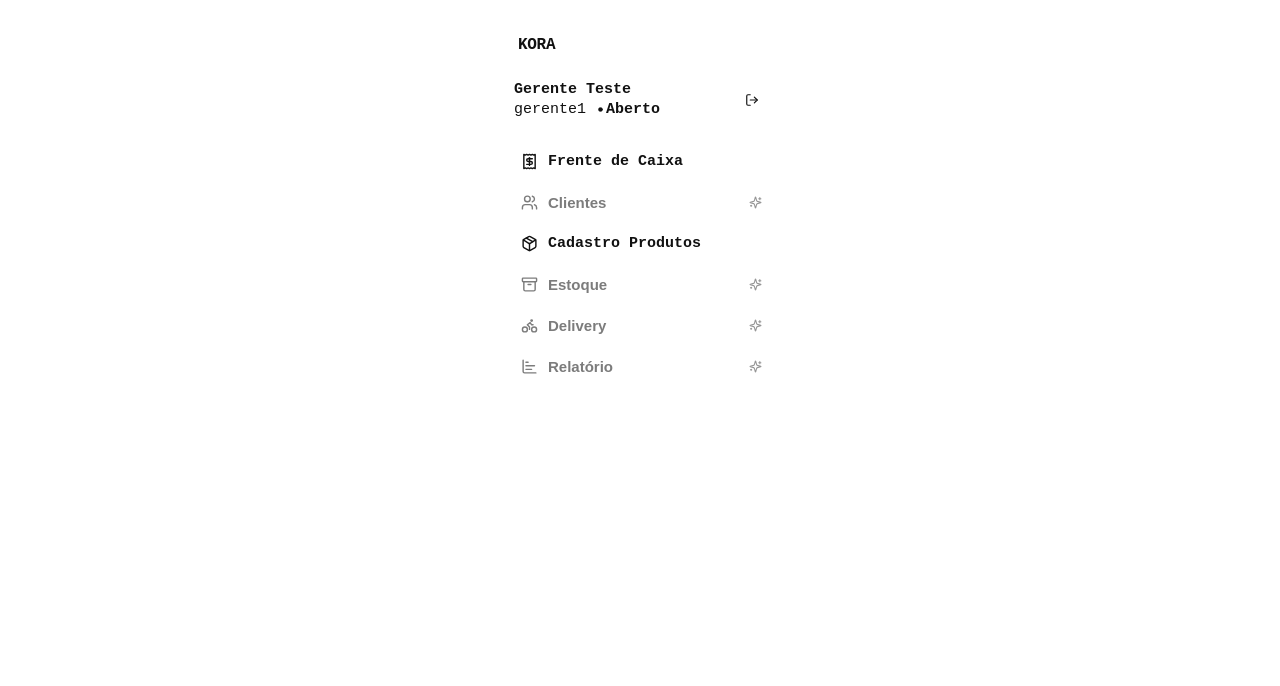
Sidebar, gating por plano (F013/ADR-005, Fase 2) › mostra o módulo fora do plano como bloqueado (convite a upgrade), não escondido
Click the button "Estoque": (578, 285) [498,264,782,305]
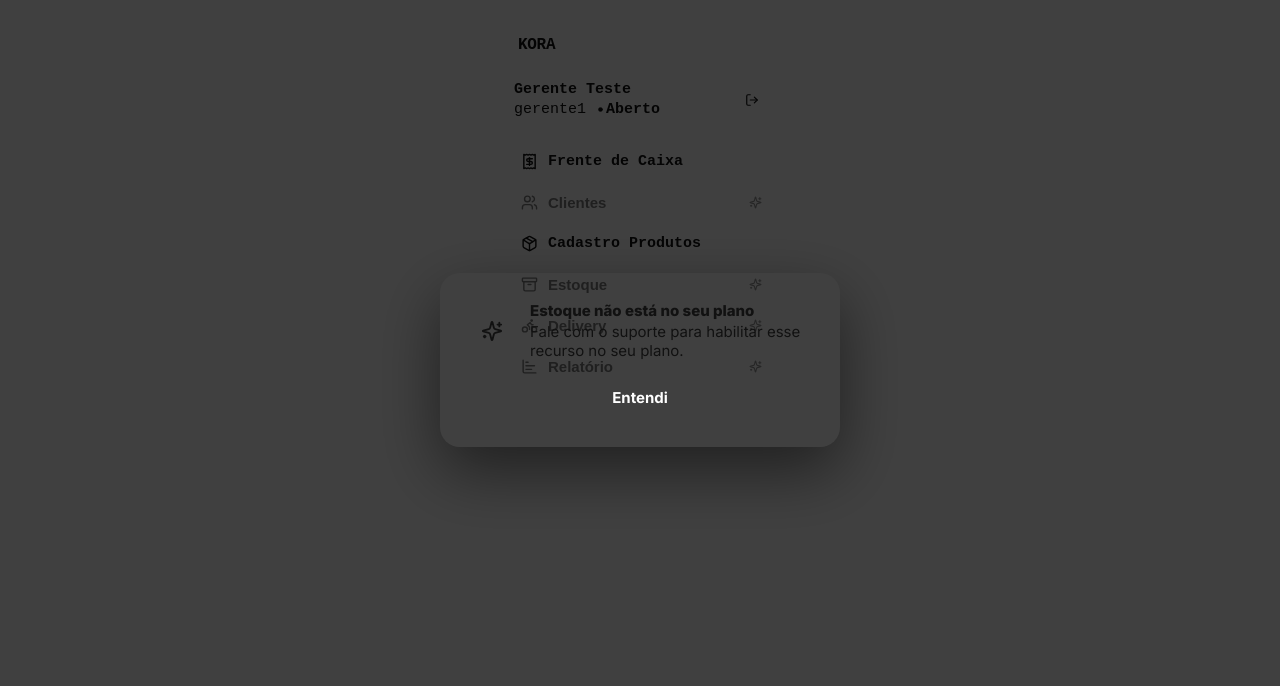
Expected: the text "Estoque não está no seu plano" is shown, [530,301,754,320]
